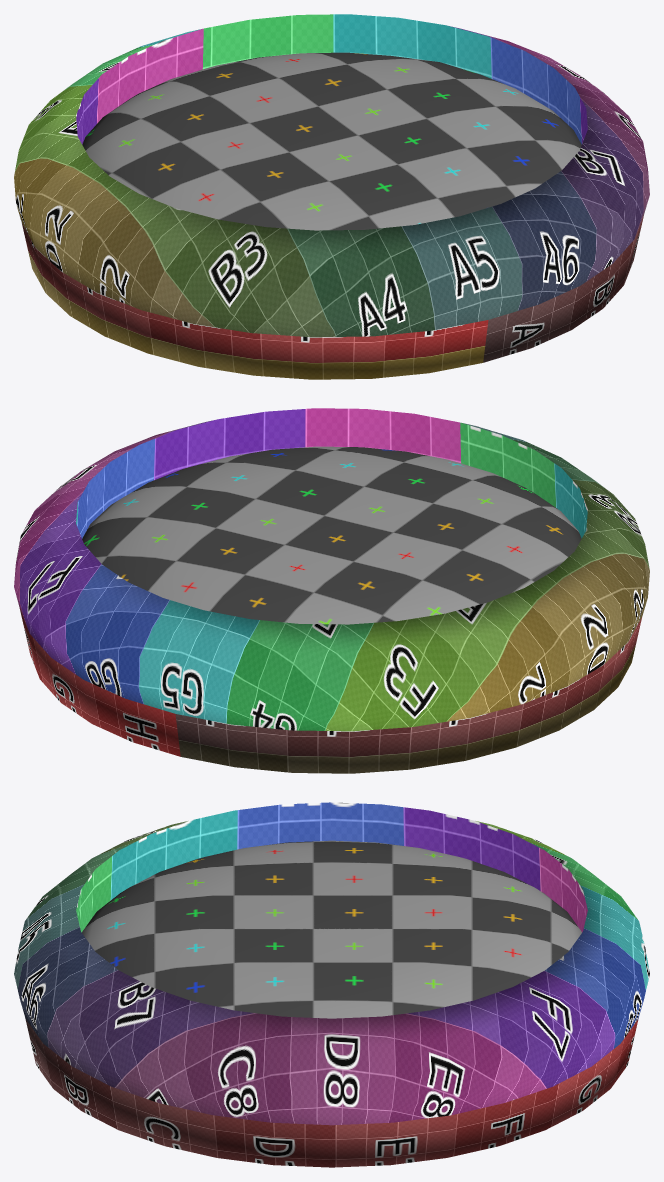
Rendered from button_silly.gltf.
The picture shows the model from 3 angles, top to bottom: view 1: azimuth 30°, elevation 25°; view 2: azimuth 150°, elevation 25°; view 3: azimuth 270°, elevation 25°; orthographic projection.
Parts seen in each view (by area): view 1: button_0001; view 2: button_0001; view 3: button_0001.
Part boxes in pixels (<box>): button_0001: <box>14,14,649,379</box>; button_0001: <box>14,408,649,773</box>; button_0001: <box>14,802,649,1167</box>.
Size of the model in its own units: 2.47 by 0.5853 by 2.47.
2 materials, 2 textured.
